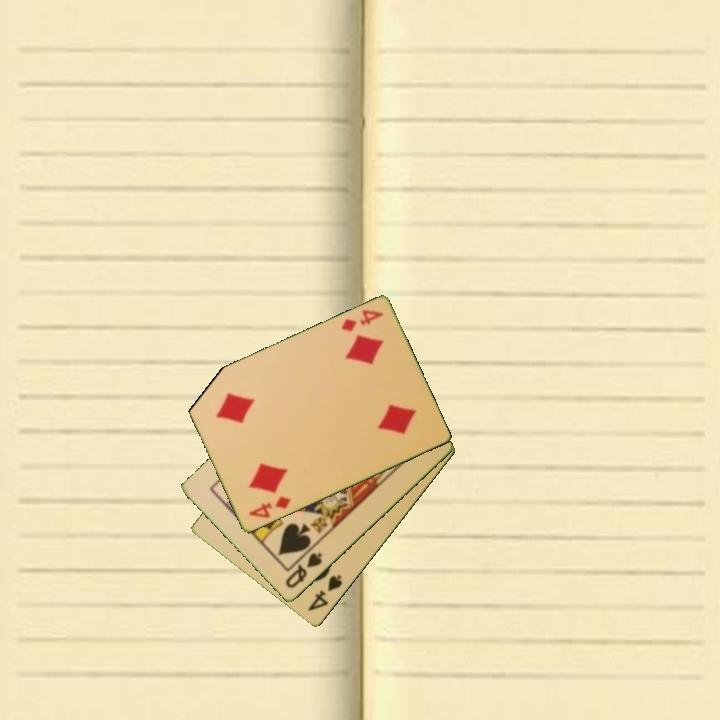4d: (245, 493, 294, 522), (337, 307, 387, 335)
4s: (304, 571, 345, 614)
Qs: (282, 549, 325, 592)
